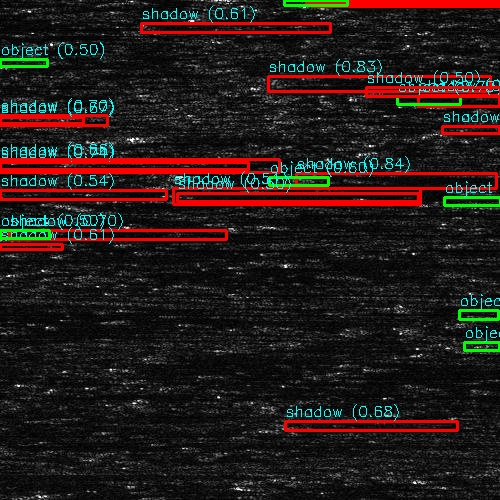rock: (259, 422, 322, 433), (37, 491, 100, 500), (270, 176, 311, 187), (449, 200, 500, 207), (449, 344, 500, 351), (459, 184, 490, 193), (465, 313, 500, 320), (0, 252, 23, 261), (394, 100, 425, 105), (205, 0, 236, 4), (135, 135, 176, 138), (492, 63, 500, 68)
shadow: (291, 176, 500, 187), (0, 163, 250, 172), (291, 422, 437, 433), (0, 470, 228, 475), (221, 0, 486, 4), (0, 252, 100, 261), (0, 114, 76, 123), (0, 310, 39, 327), (69, 491, 138, 500), (156, 135, 289, 138), (0, 213, 32, 224), (410, 100, 479, 105), (0, 0, 55, 6), (486, 344, 500, 351)
